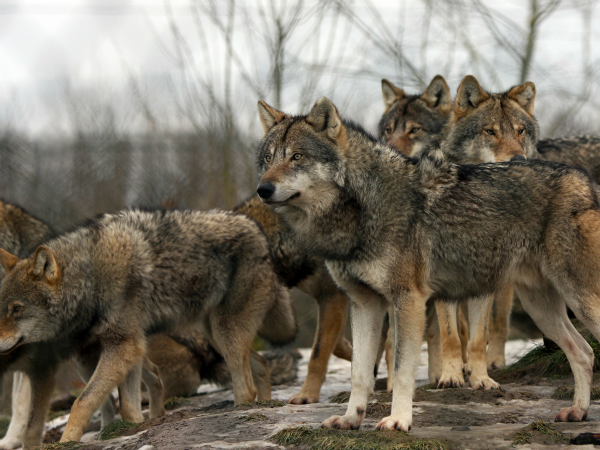Lobo: (249, 102, 572, 391), (4, 202, 274, 407), (437, 73, 544, 165), (369, 77, 451, 174)
